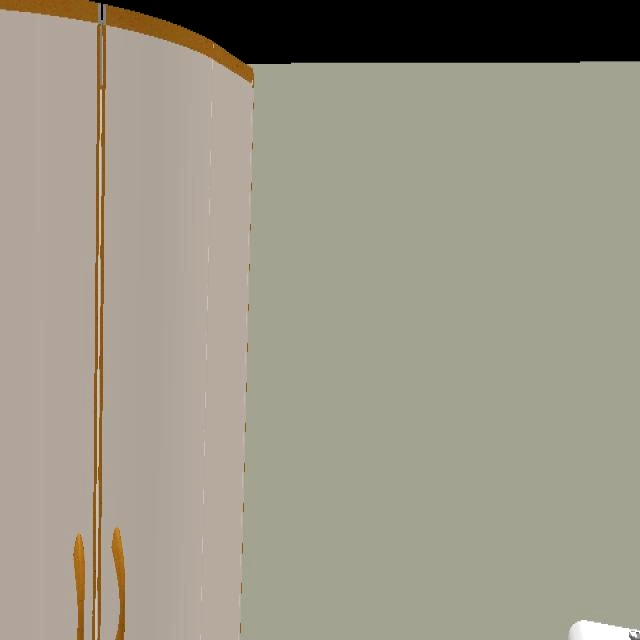shower: (0, 9, 256, 640)
